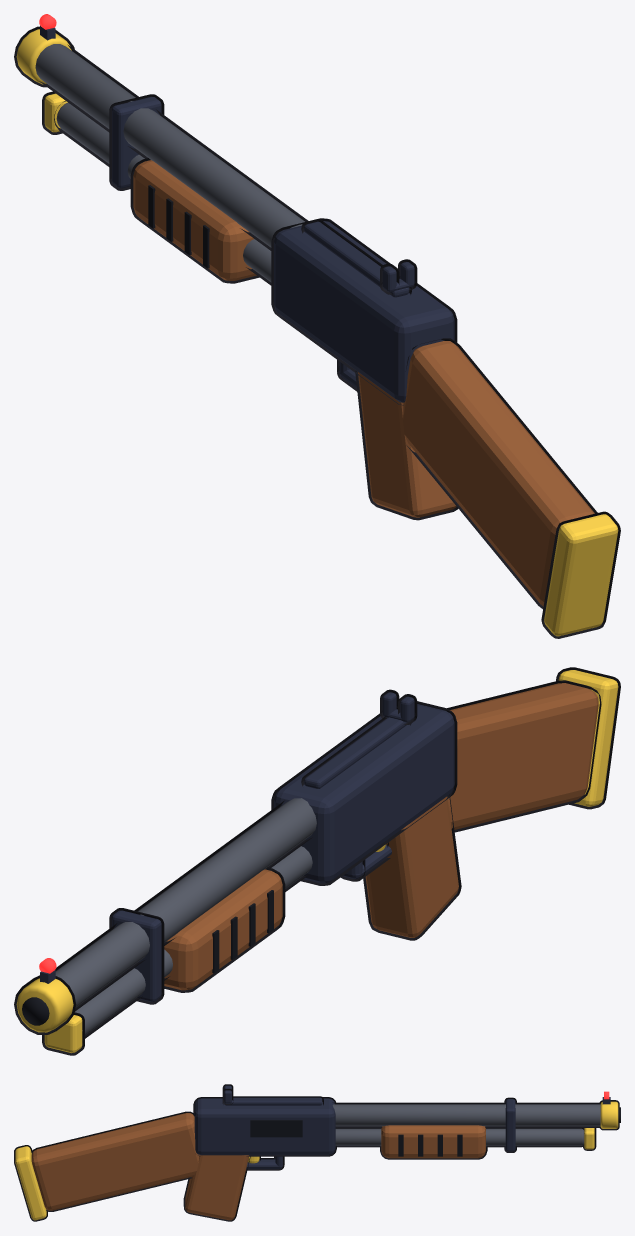
File: shotgun.glb
The picture shows the model from 3 angles, top to bottom: view 1: azimuth 30°, elevation 25°; view 2: azimuth 150°, elevation 25°; view 3: azimuth 270°, elevation 25°; orthographic projection. The views are drawn at different scales.
Parts seen in each view (by area): view 1: Stock, Receiver, Barrel, ButtPad, Grip, Pump, Tube, BarrelBand, Rail, MuzzleRing; view 2: Stock, Receiver, Barrel, Grip, Pump, ButtPad, Tube, BarrelBand, Rail, MuzzleRing, TubeCap, Bore (+1 smaller); view 3: Stock, Receiver, Barrel, Grip, Pump, Tube, ButtPad, Port, Rail, BarrelBand, MuzzleRing, GuardBottom (+1 smaller).
Part boxes in pixels (bbox=[...]): Stock: bbox=[403, 338, 597, 608]; Receiver: bbox=[271, 218, 457, 405]; Barrel: bbox=[35, 44, 308, 250]; ButtPad: bbox=[541, 511, 620, 638]; Grip: bbox=[355, 370, 458, 520]; Pump: bbox=[130, 158, 259, 283]; Tube: bbox=[54, 101, 271, 285]; BarrelBand: bbox=[109, 94, 164, 190]; Rail: bbox=[301, 219, 411, 297]; MuzzleRing: bbox=[14, 26, 74, 87]; Stock: bbox=[447, 680, 601, 832]; Receiver: bbox=[271, 701, 457, 885]; Barrel: bbox=[55, 798, 316, 1011]; Grip: bbox=[363, 794, 461, 940]; Pump: bbox=[164, 867, 285, 992]; ButtPad: bbox=[556, 667, 620, 809]; Tube: bbox=[75, 846, 312, 1038]; BarrelBand: bbox=[109, 908, 164, 1004]; Rail: bbox=[301, 716, 410, 788]; MuzzleRing: bbox=[14, 975, 76, 1034]; TubeCap: bbox=[42, 1012, 84, 1055]; Bore: bbox=[22, 997, 49, 1025]; Stock: bbox=[31, 1111, 199, 1211]; Receiver: bbox=[193, 1097, 336, 1156]; Barrel: bbox=[332, 1102, 600, 1127]; Grip: bbox=[183, 1155, 250, 1221]; Pump: bbox=[380, 1125, 487, 1159]; Tube: bbox=[335, 1128, 584, 1147]; ButtPad: bbox=[14, 1145, 47, 1221]; Port: bbox=[250, 1120, 302, 1137]; Rail: bbox=[222, 1096, 323, 1105]; BarrelBand: bbox=[504, 1097, 516, 1152]; MuzzleRing: bbox=[599, 1100, 619, 1130]; GuardBottom: bbox=[246, 1158, 284, 1170].
Bounding box in the file's own units: 0.0643 × 0.2185 × 0.927.
